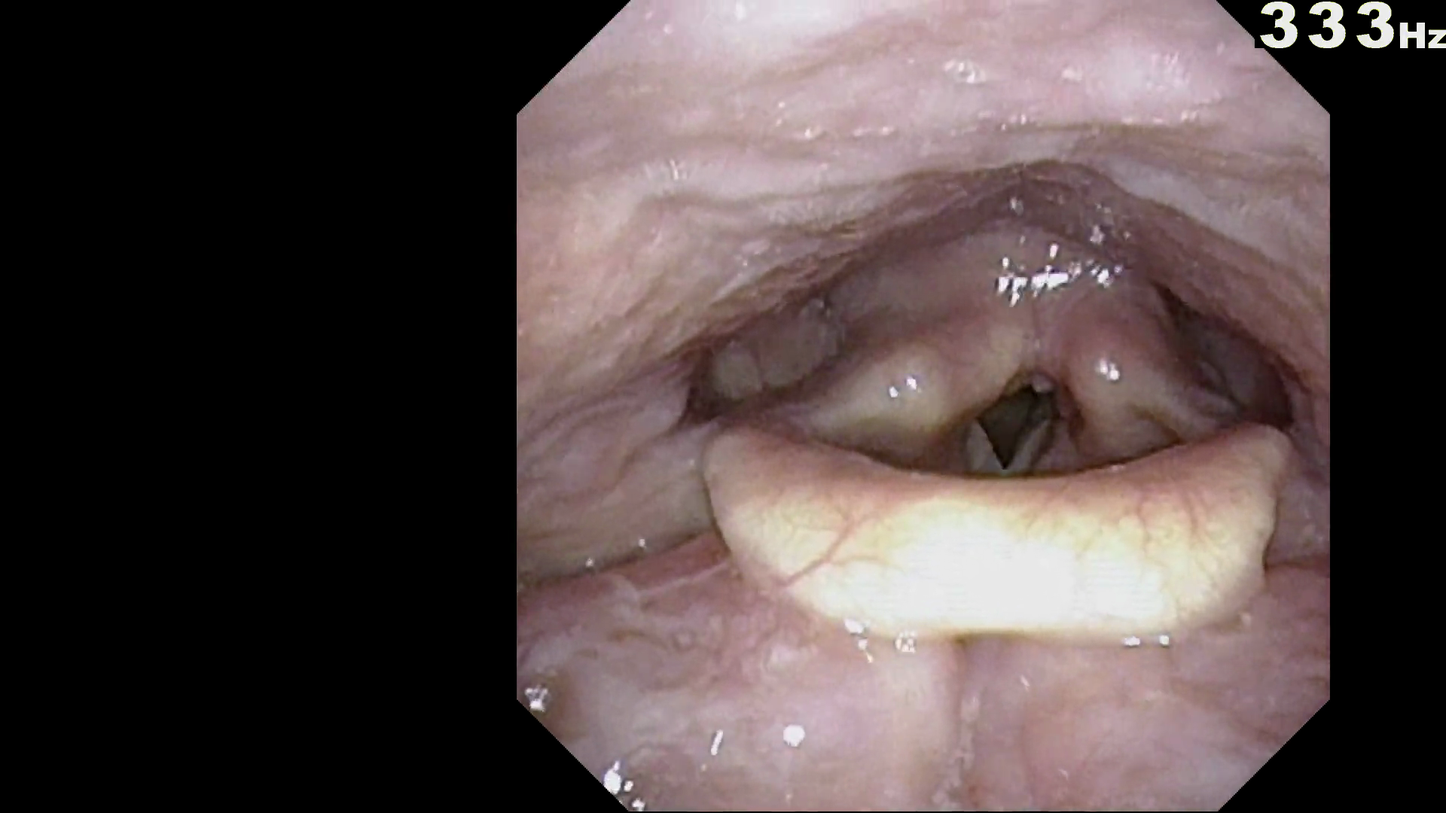epiglottis: (693, 403, 1305, 662)
trachea: (936, 348, 1092, 526)
